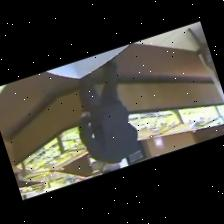person: (78, 59, 138, 173)
